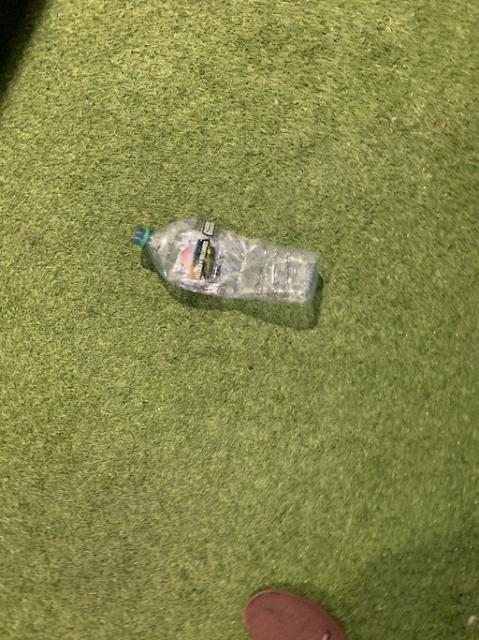plastic: (131, 218, 318, 301)
